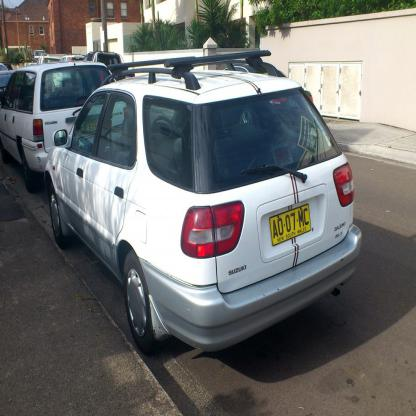Car: (0, 49, 363, 360)
